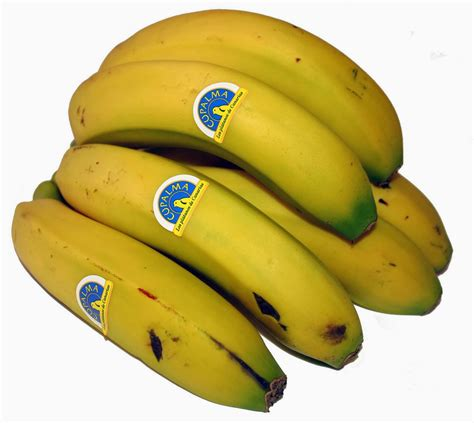banana: (47, 140, 365, 370), (7, 194, 290, 416), (63, 56, 382, 248), (95, 5, 407, 195)
